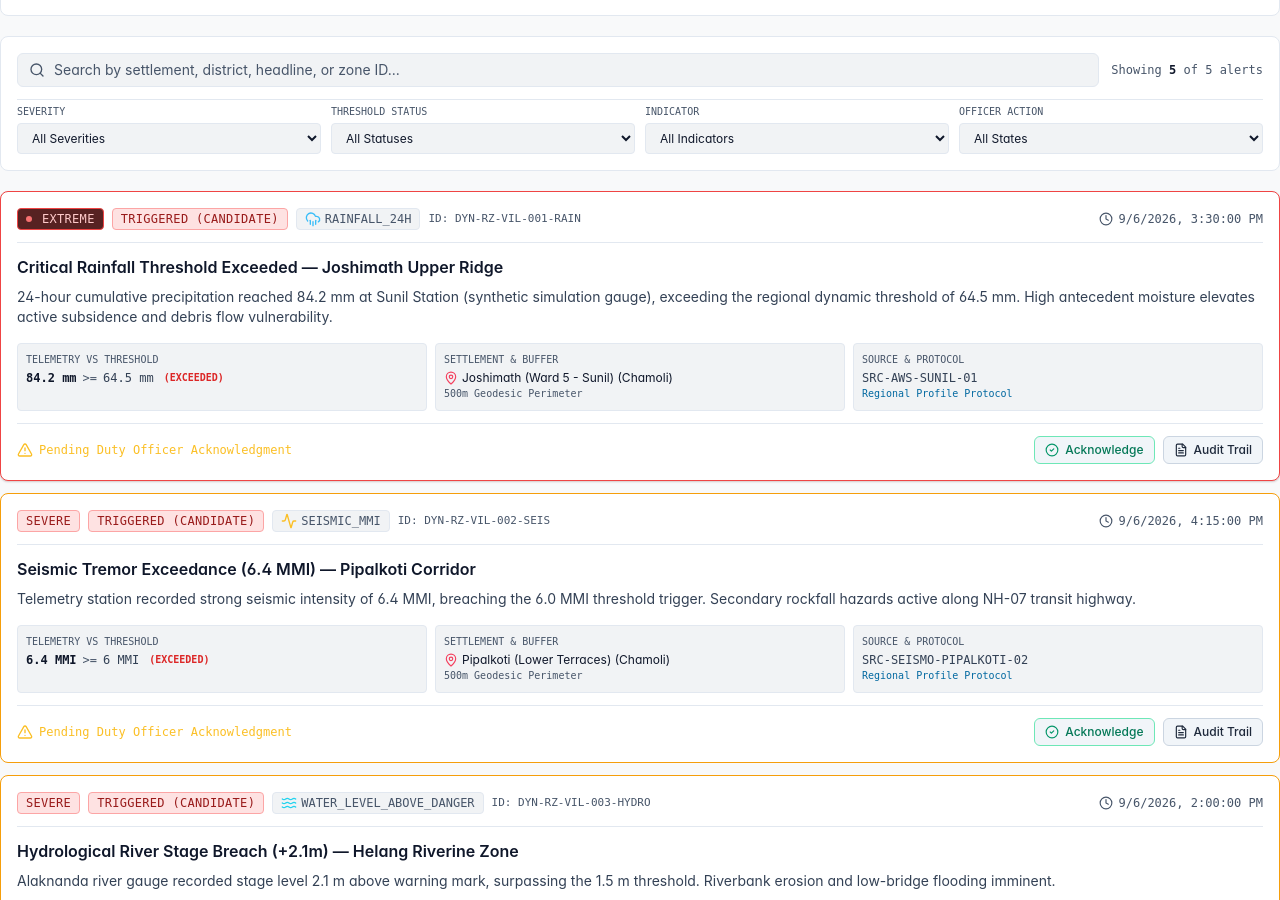
Scenario: Real-Time Alerts & Threshold Warnings UI Suite (Chunk M6-05) › Officer Acknowledgment Flow › allows duty officer to acknowledge a single alert
(page scrolled)
Expected: the heading "Critical Rainfall Threshold Exceeded — Joshimath Upper Ridge" is shown, [17,257,503,277]
Click the button "Acknowledge" below "SRC-AWS-SUNIL-01": (1094, 450) [1034,436,1155,464]
(page scrolled)
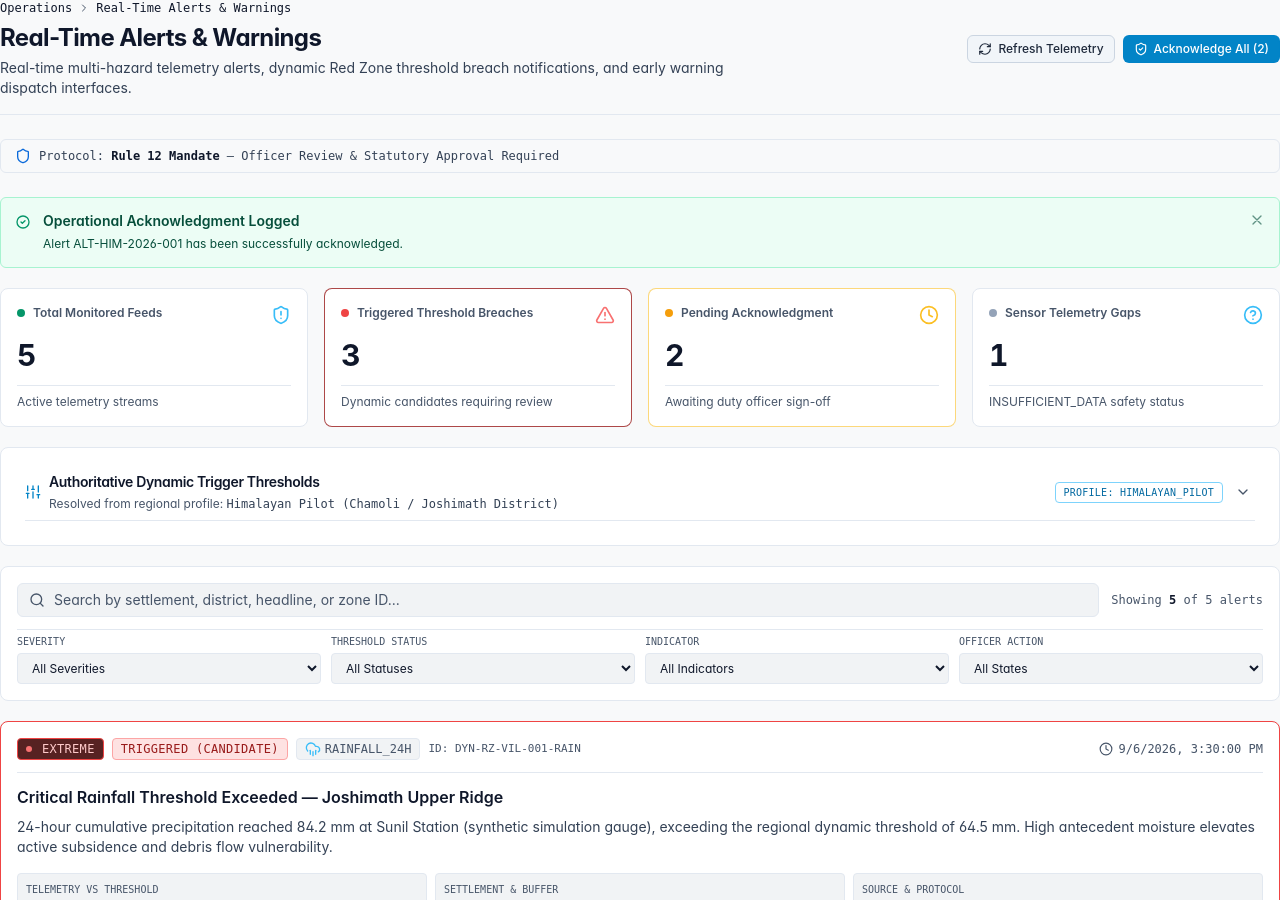
Expected: the text "Alert ALT-HIM-2026-001 has been successfully acknowledged." is shown, [43,236,403,250]
